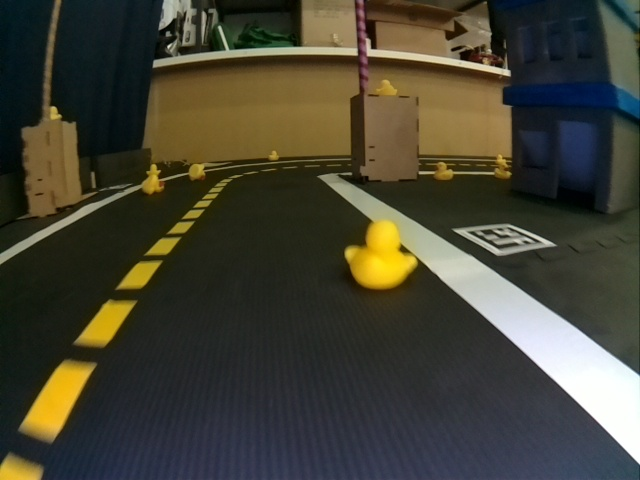Duckie: (344, 222, 414, 286), (142, 175, 163, 191), (435, 162, 453, 180), (376, 80, 395, 95), (189, 163, 204, 176), (495, 166, 510, 178), (148, 164, 160, 174), (496, 154, 506, 163), (49, 106, 57, 116), (269, 151, 278, 158)
QR code: (454, 225, 553, 255)
